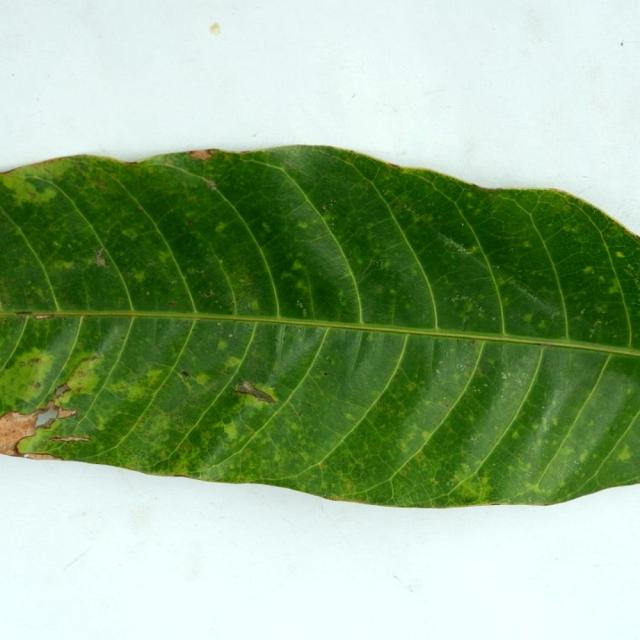Mango: (0, 146, 639, 505)
Powdery_Mildew: (276, 254, 333, 318), (2, 344, 61, 401), (160, 428, 224, 472), (2, 169, 59, 206), (59, 351, 108, 394), (235, 382, 280, 406), (192, 284, 228, 310), (618, 263, 640, 304), (138, 368, 167, 390), (468, 474, 493, 498), (224, 353, 250, 373), (117, 224, 144, 243), (190, 371, 215, 388), (222, 419, 240, 440), (222, 356, 242, 371), (616, 443, 633, 460), (54, 259, 78, 271), (368, 259, 392, 271), (19, 356, 43, 367), (131, 269, 147, 284), (214, 221, 229, 234), (296, 300, 308, 316), (216, 339, 229, 352), (461, 301, 474, 314), (290, 259, 304, 271), (590, 320, 602, 333), (88, 352, 103, 362), (578, 449, 589, 462), (595, 304, 609, 314), (522, 312, 533, 323), (510, 428, 521, 439), (247, 300, 259, 310), (608, 285, 620, 294), (297, 220, 309, 229), (261, 222, 272, 231), (582, 266, 594, 274), (185, 267, 197, 275), (344, 413, 355, 420), (522, 241, 532, 248), (615, 251, 624, 258), (329, 200, 336, 207), (320, 463, 327, 469)
